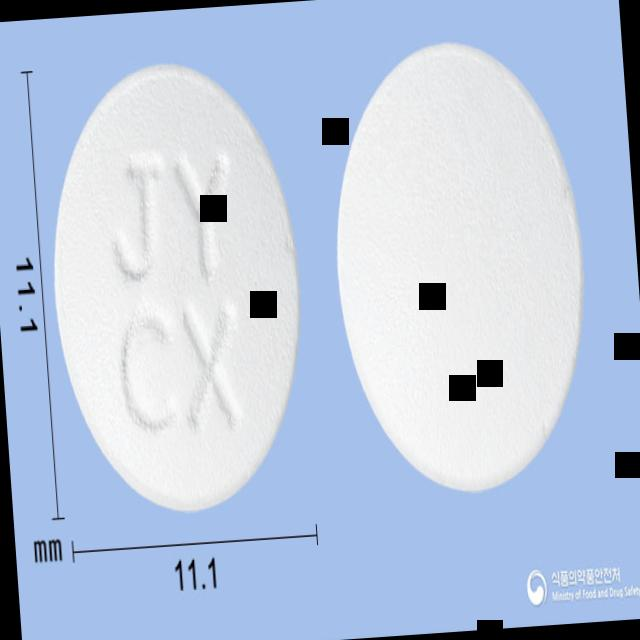Bearcin - 500mg: (322, 31, 598, 504), (40, 53, 315, 518)
